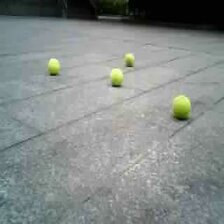tennis: (171, 95, 190, 119), (109, 68, 124, 85), (47, 59, 60, 75), (123, 52, 136, 67)
